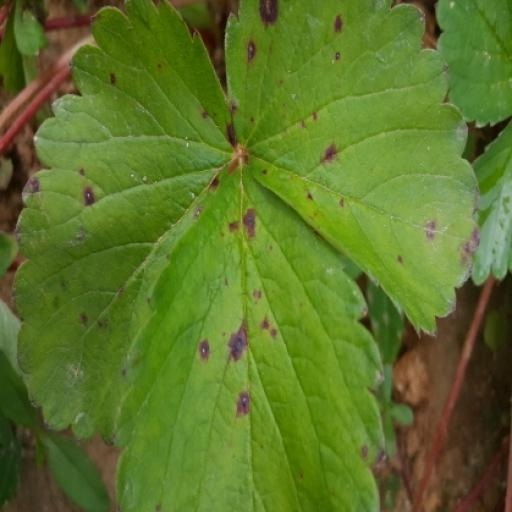Leaf Spot: (272, 0, 502, 447), (124, 154, 400, 511), (30, 0, 288, 342)
